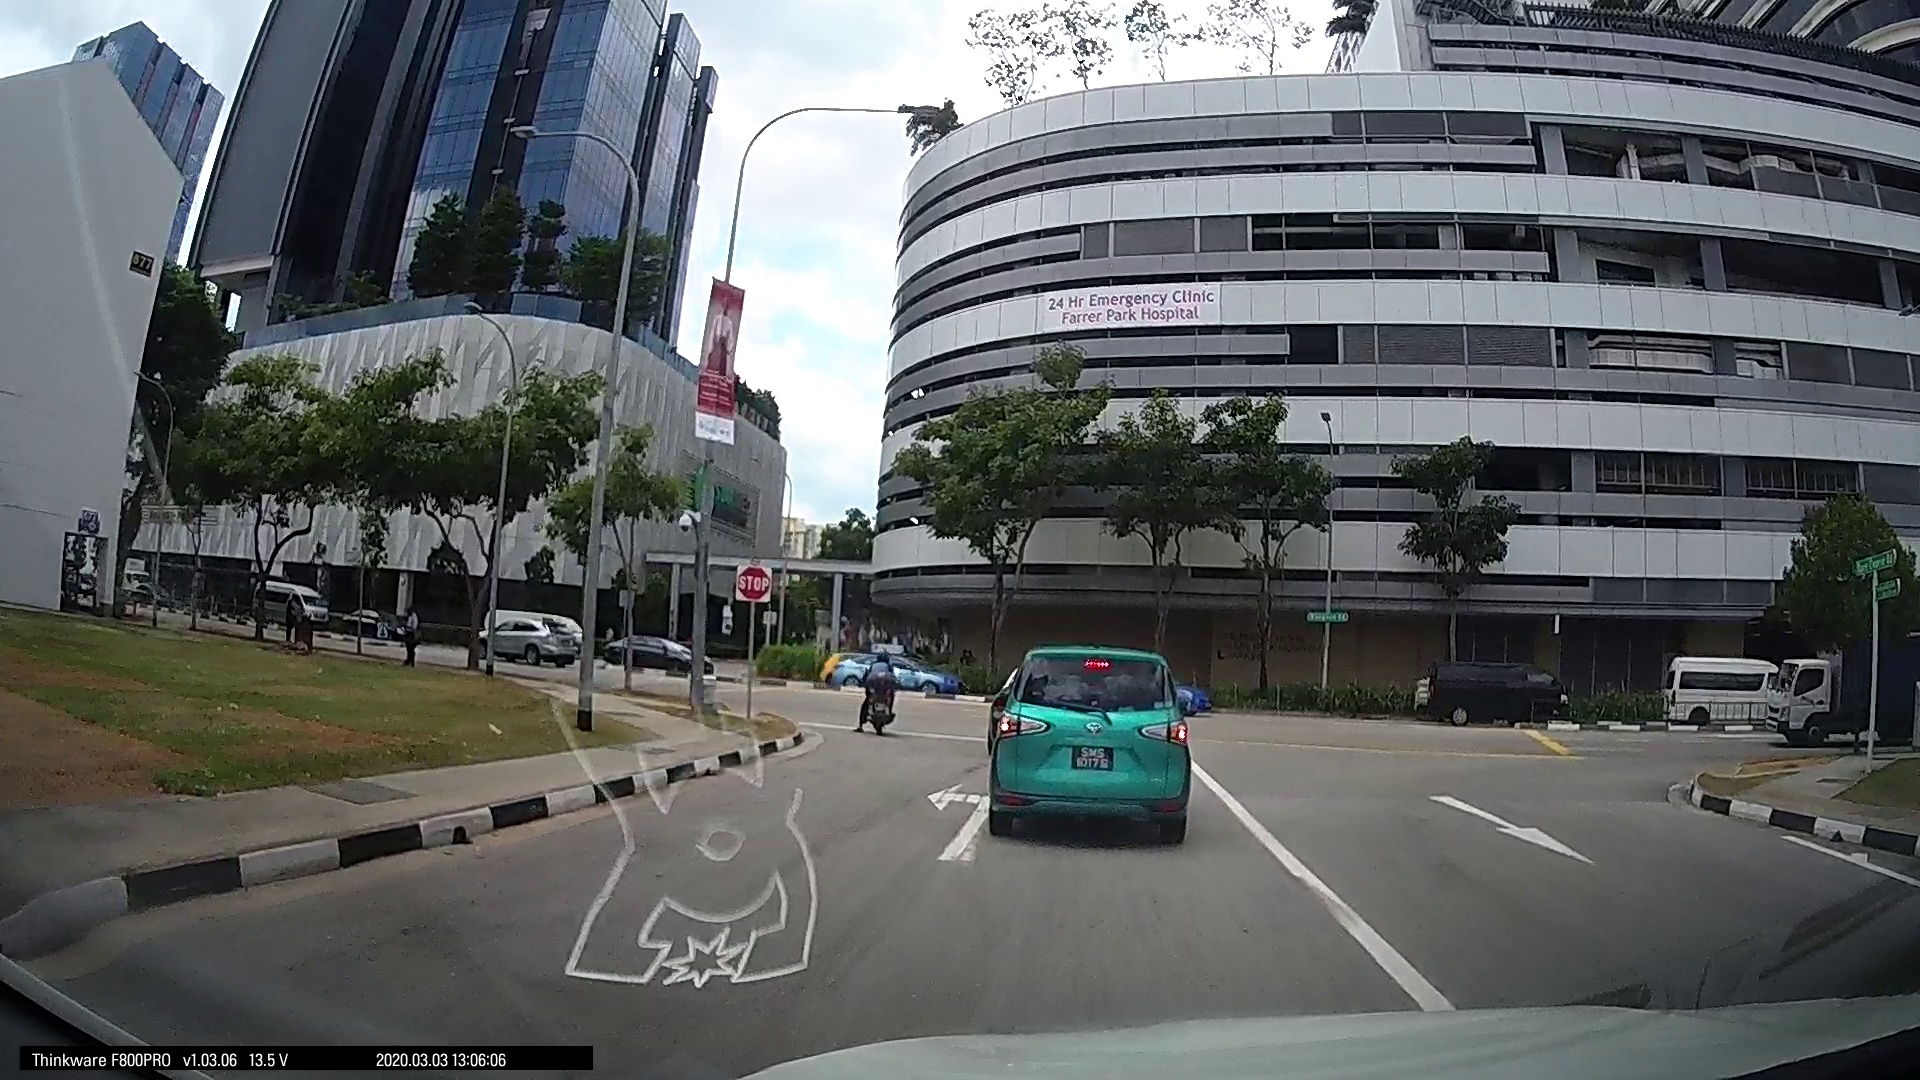Heavy Vehicle: (1766, 644, 1882, 740), (1659, 651, 1787, 732)
Light Vehicle: (976, 633, 1192, 847), (1414, 651, 1567, 721), (1658, 655, 1784, 731), (472, 601, 589, 673), (820, 645, 959, 694)
